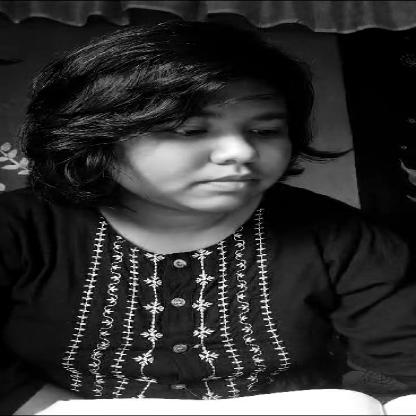Distracted: (77, 39, 305, 218)
